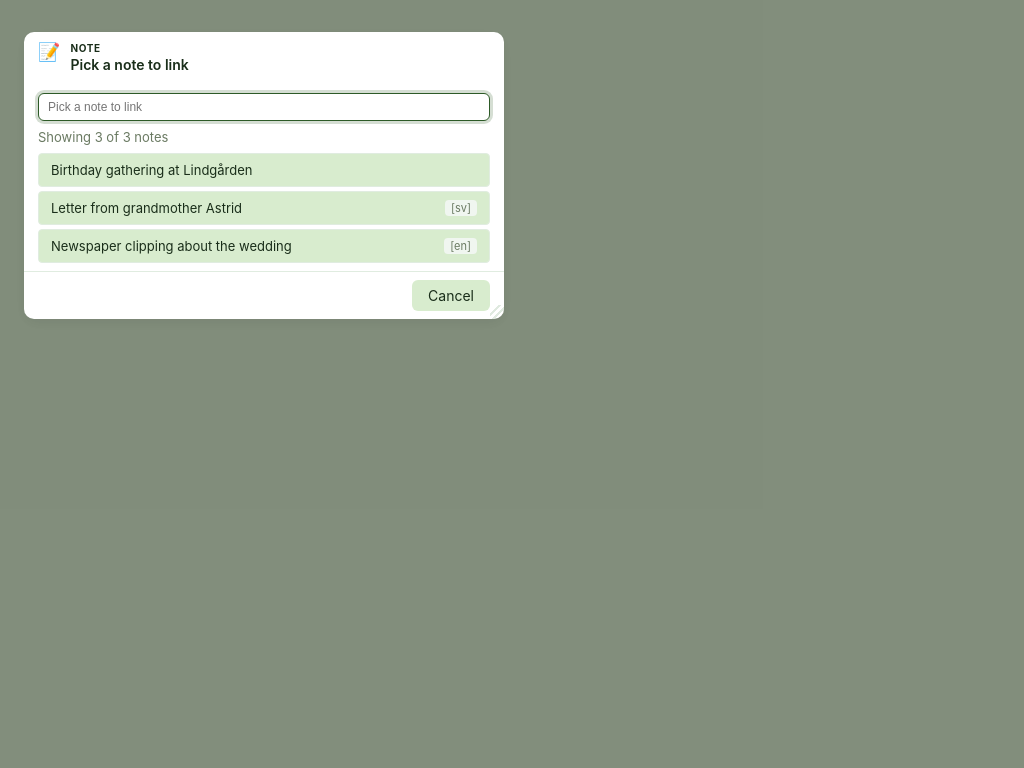
it: NotePicker › filters rows by search query
Type "wedding" into the field with class "list-filter-input" at (264, 107), box 38,93 -> 490,121
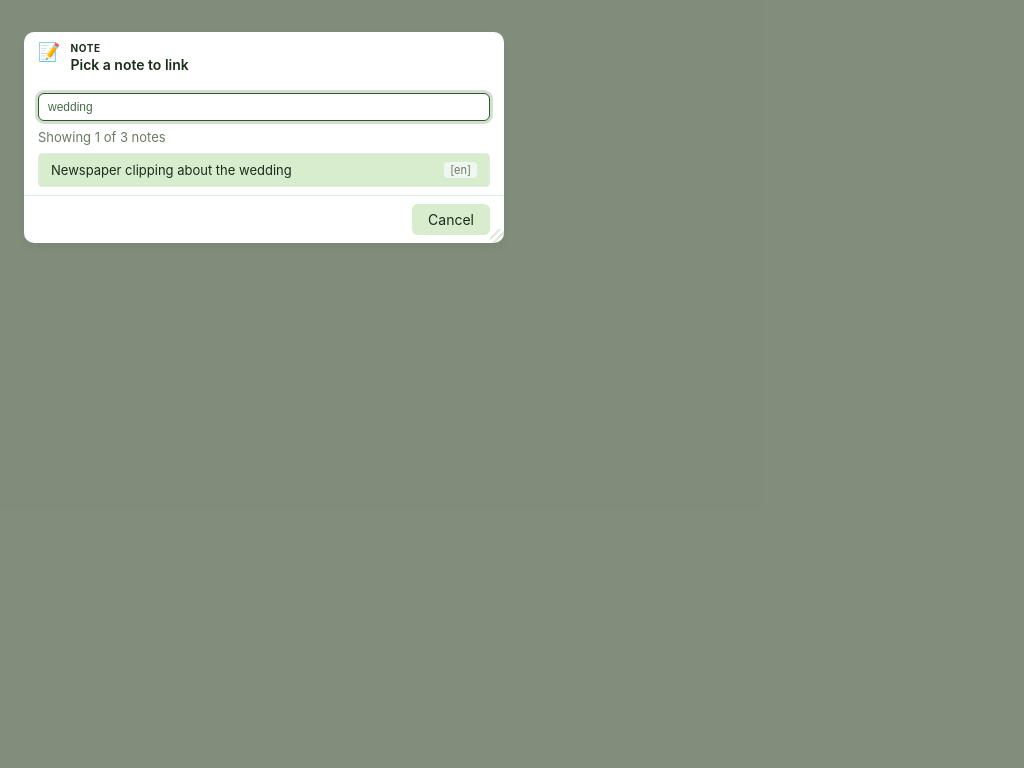
Check: the option "Newspaper clipping about the wedding [en]" is shown, box 38,153 -> 490,187
Check: the number of options is 1, box 38,153 -> 490,187
